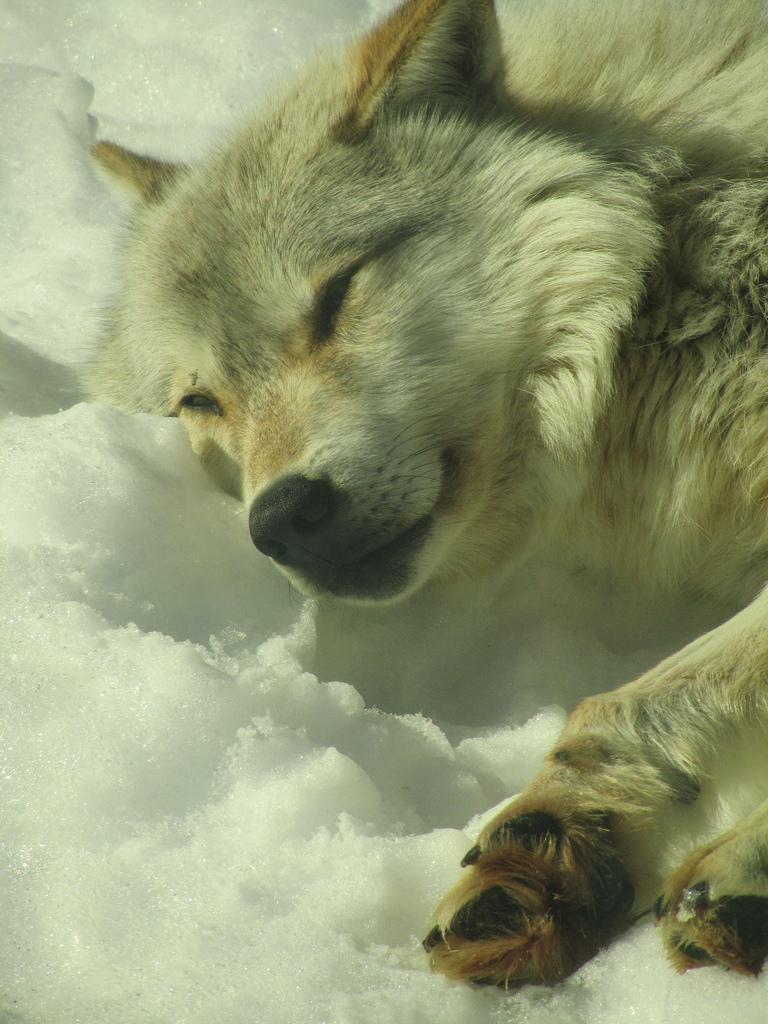Wolf: (94, 4, 768, 994)
